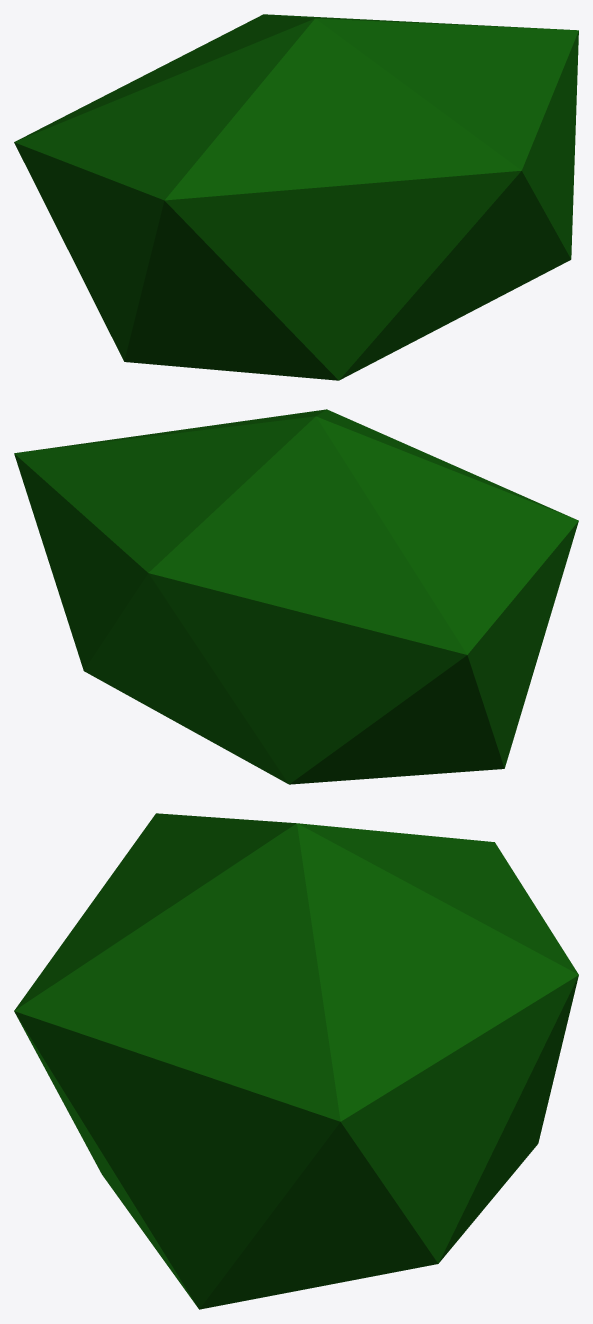
File: Bush_4.fbx
3 renders of one model, top to bottom at view 1: azimuth 30°, elevation 25°; view 2: azimuth 150°, elevation 25°; view 3: azimuth 270°, elevation 25°, orthographic. The views are drawn at different scales.
Parts seen in each view (by area): view 1: Bush_4; view 2: Bush_4; view 3: Bush_4.
Boxes of the visible parts, bbox=[...] form: Bush_4: bbox=[14, 14, 578, 380]; Bush_4: bbox=[14, 409, 578, 784]; Bush_4: bbox=[14, 813, 578, 1309].
Size of the model in its own units: 2.17 by 1.26 by 1.61.
